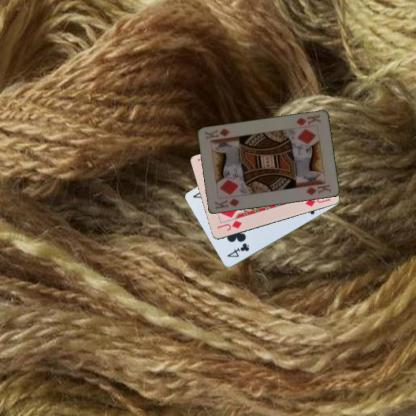4c: (224, 240, 251, 259)
Jd: (214, 218, 244, 232)
Kd: (293, 112, 322, 127), (212, 196, 240, 211)
